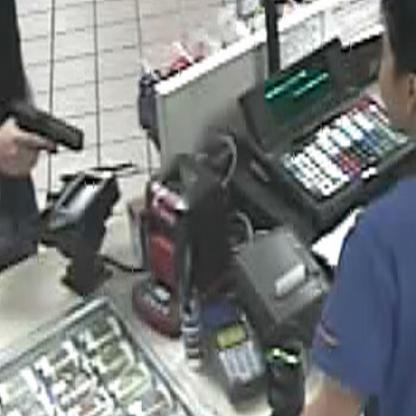gun: (0, 86, 92, 185), (267, 0, 315, 19)
